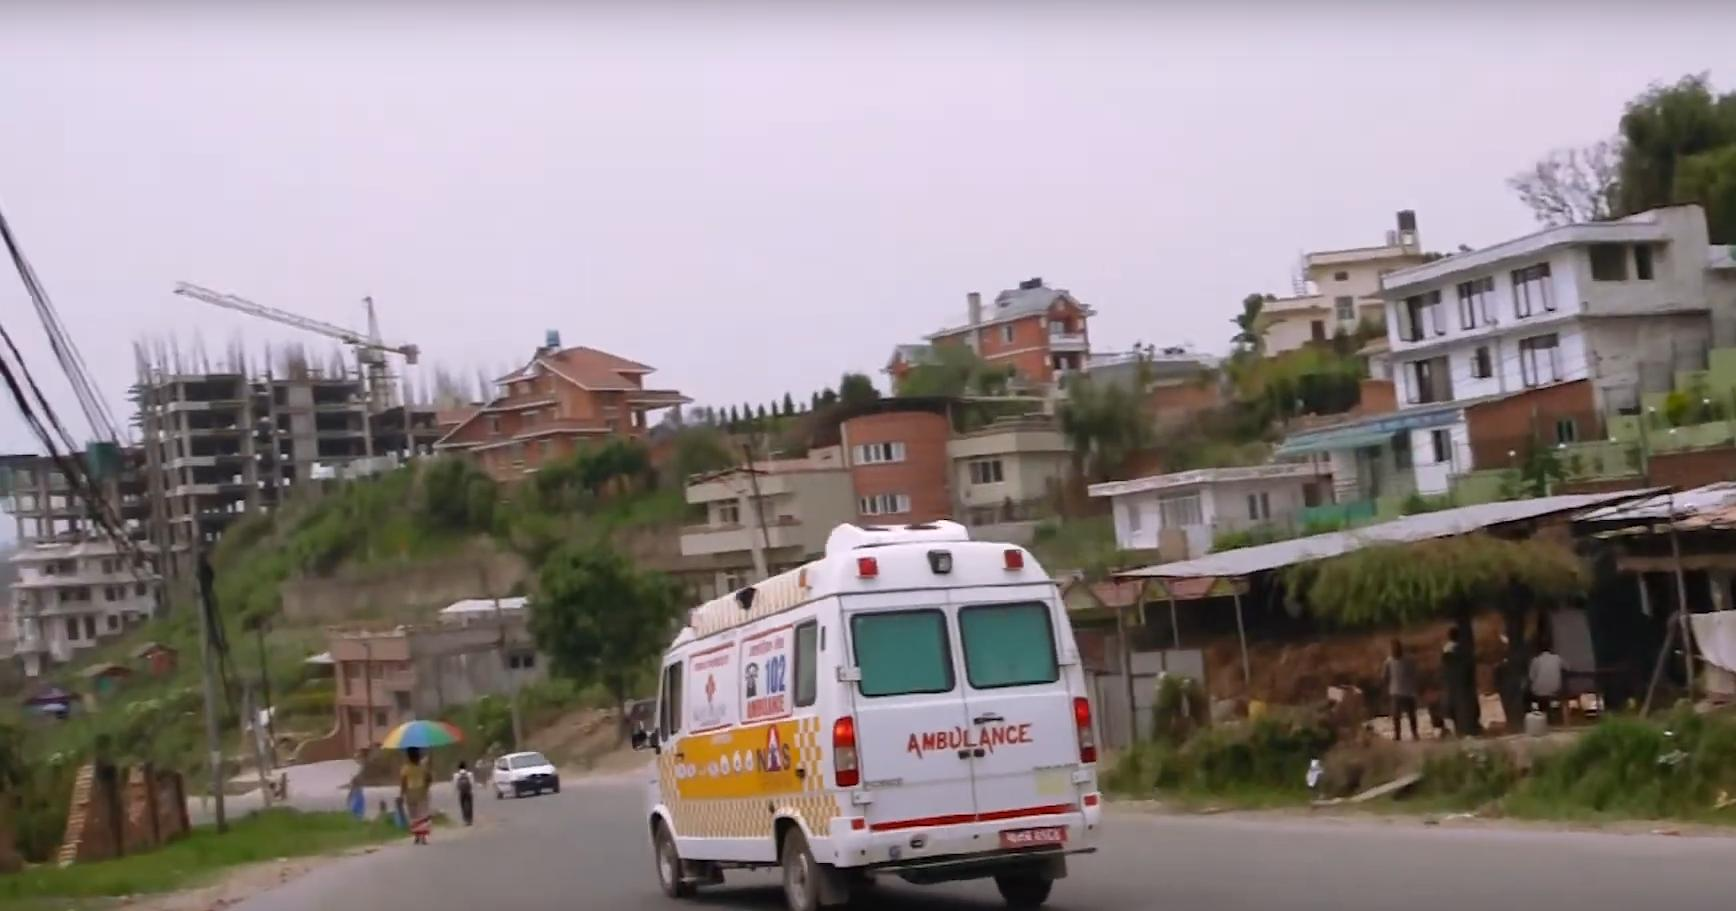ambulance: (627, 507, 1123, 911)
